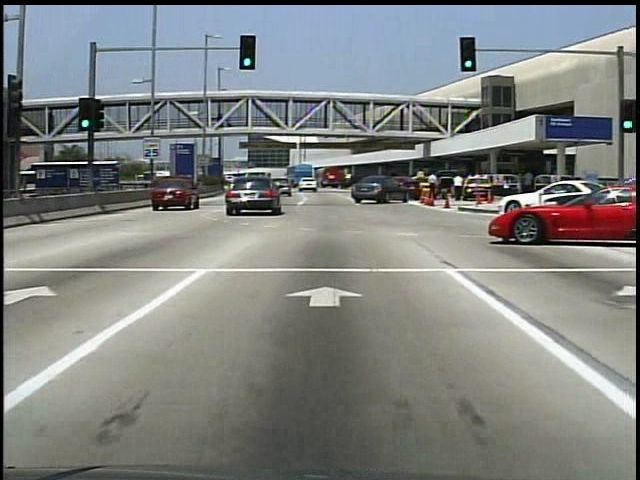person: (424, 171, 441, 206), (499, 175, 515, 210), (452, 173, 468, 202), (521, 173, 534, 195), (216, 114, 226, 132)
